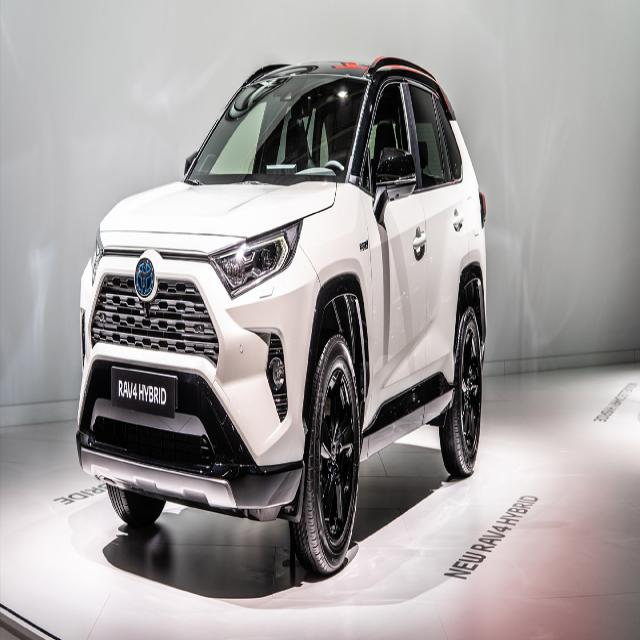light_vehicle: (75, 58, 488, 576)
